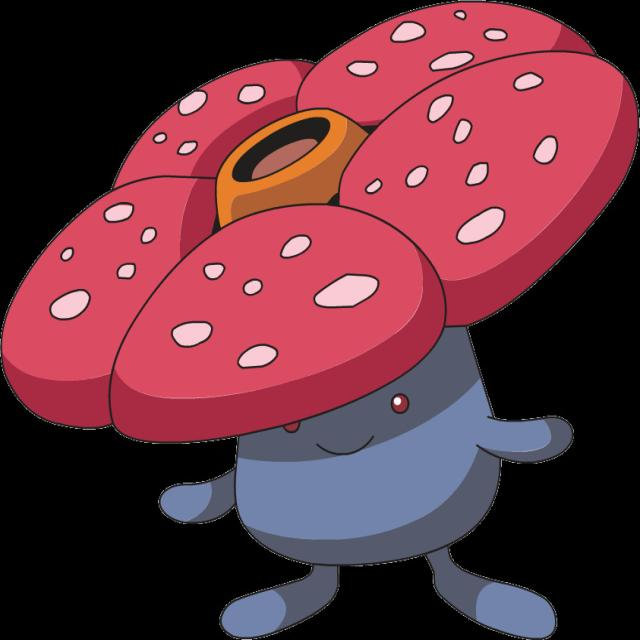Vileplume: (193, 37, 503, 580)
